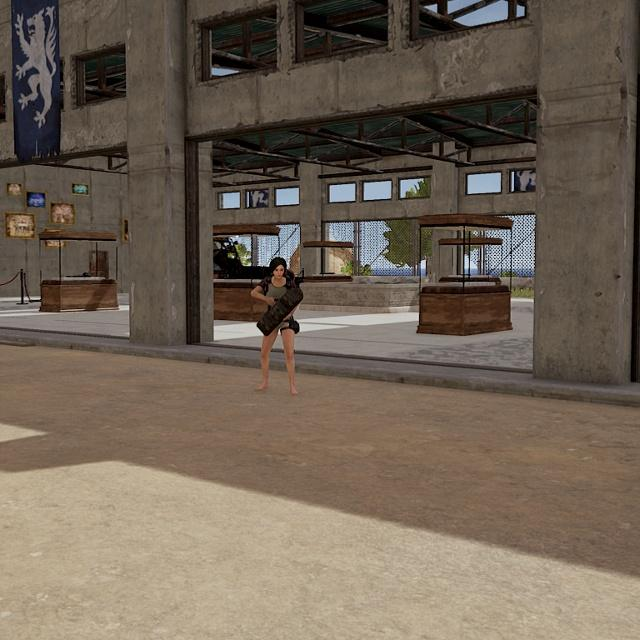head: (269, 257, 288, 282)
people: (250, 255, 305, 397)
